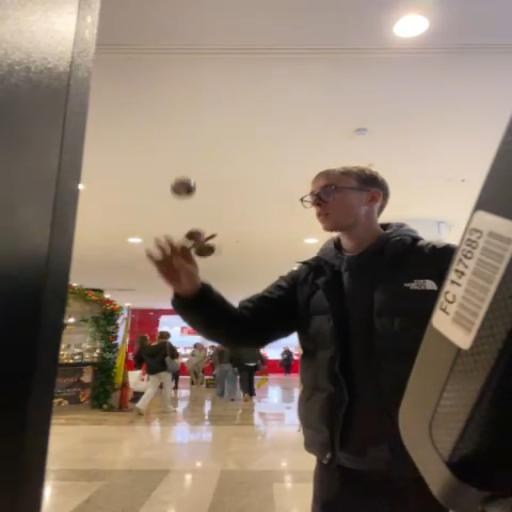kendama_ball: (171, 176, 197, 198)
